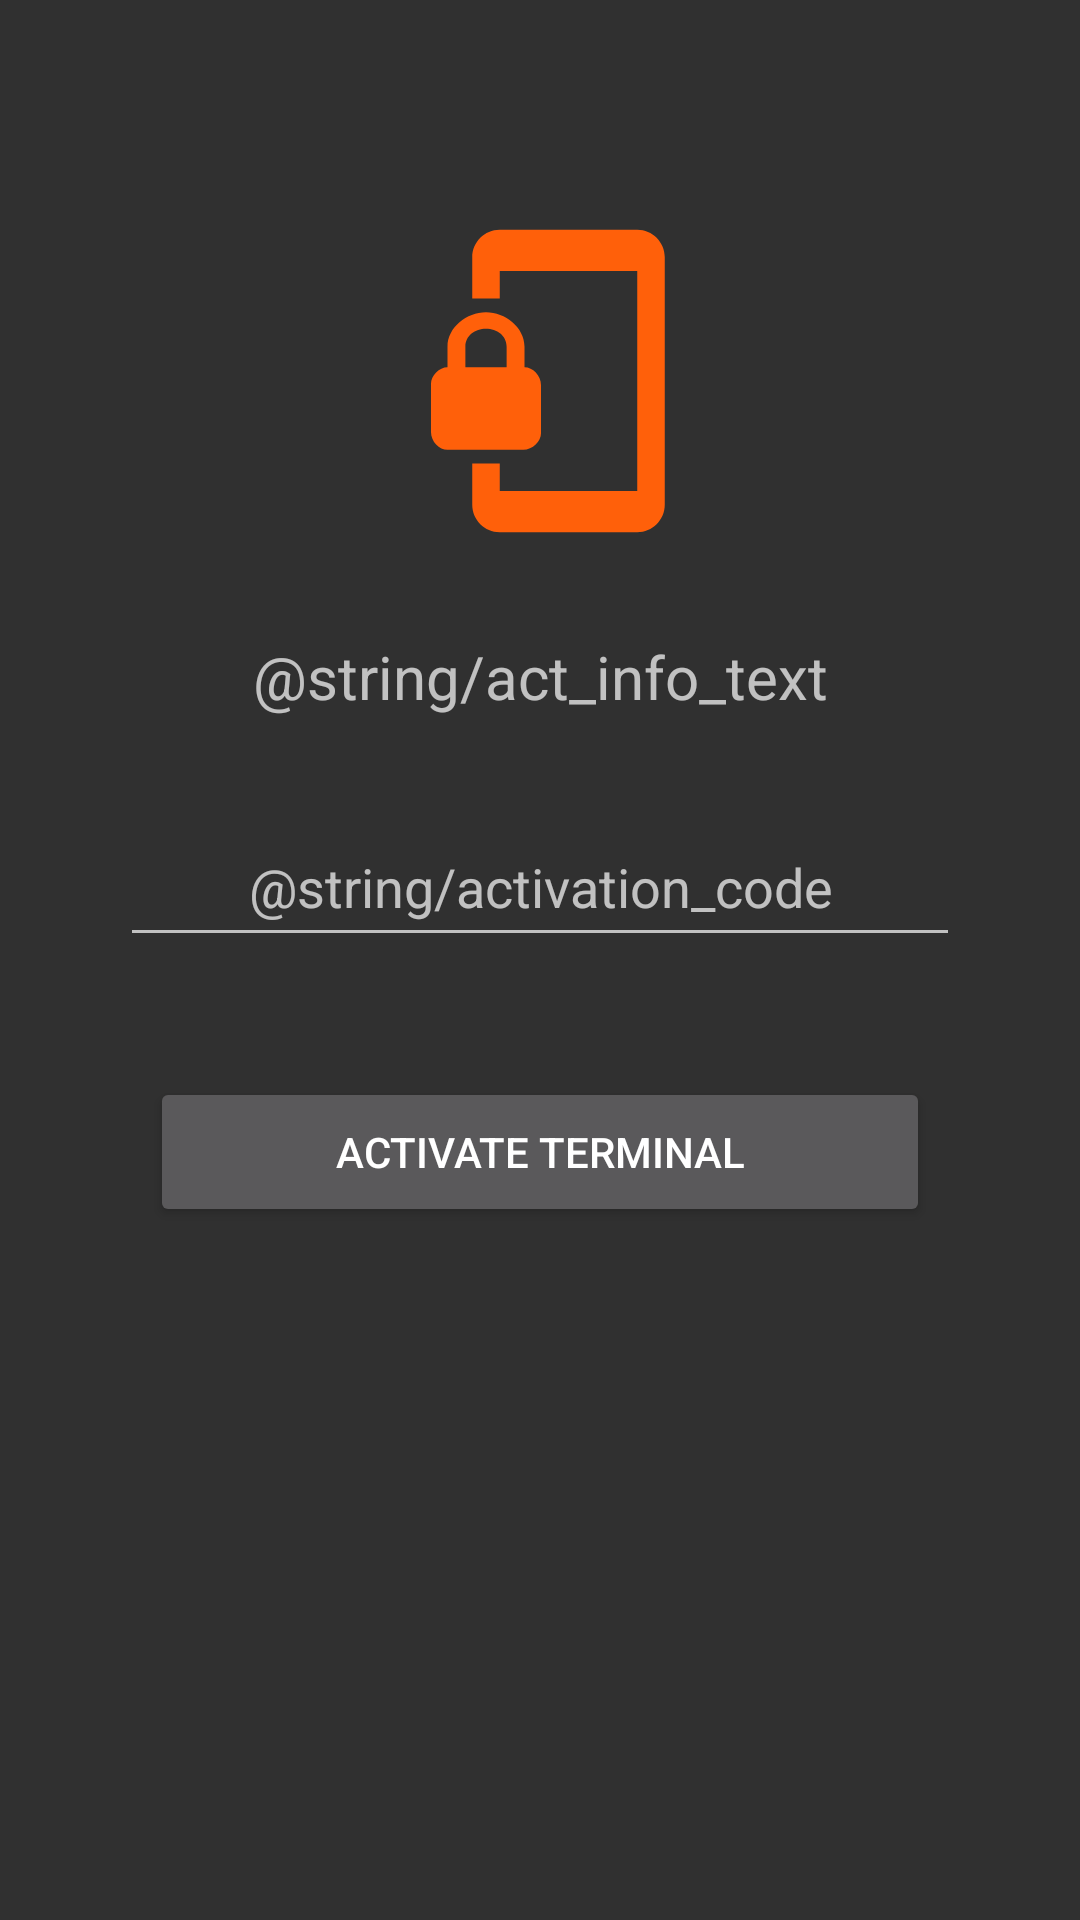

Named icons in this screenshot (1080w x 1920h) and their bounding boxes, (x1, y1, x2, y2):
phonelink lock: (431, 229, 665, 533)
